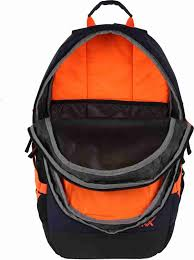backpack: (24, 0, 193, 259)
